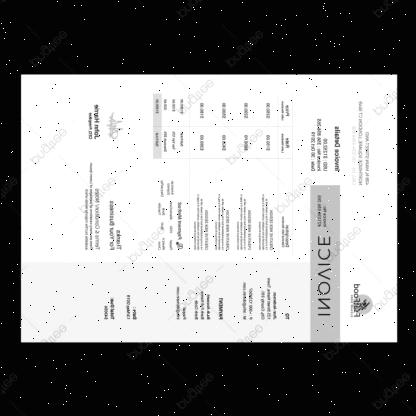Paragraph: (154, 178, 184, 252), (309, 118, 340, 172), (154, 98, 184, 152), (82, 162, 100, 251), (350, 101, 368, 186), (316, 235, 330, 316), (258, 277, 276, 320), (108, 200, 122, 250), (192, 291, 210, 320), (86, 104, 100, 140), (240, 282, 252, 320), (174, 286, 186, 320), (316, 194, 326, 228), (124, 294, 136, 320), (102, 297, 114, 321), (216, 296, 222, 320), (284, 312, 289, 320)
Table: (188, 94, 290, 258)
